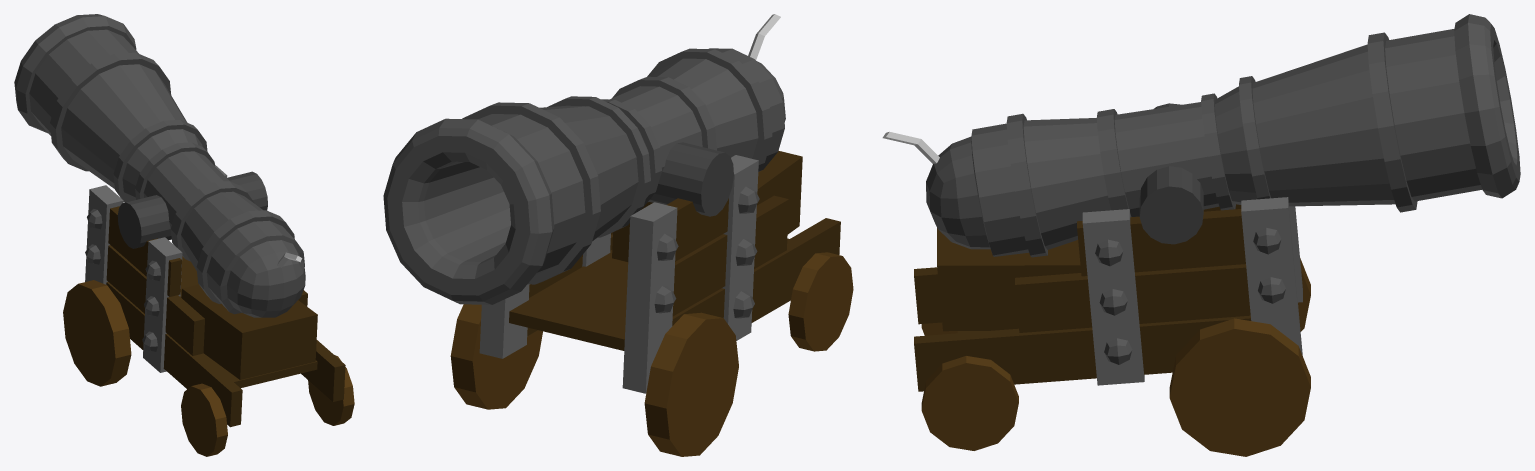
The model's file is Mesh_Canon.fbx.
3 renders of one model, left to right at view 1: azimuth 30°, elevation 25°; view 2: azimuth 150°, elevation 25°; view 3: azimuth 270°, elevation 25°, orthographic. The views are drawn at different scales.
Visible parts, largest first — view 1: Mesh_Canon; view 2: Mesh_Canon; view 3: Mesh_Canon.
Part boxes in pixels (<box>): Mesh_Canon: <box>14,14,354,456</box>; Mesh_Canon: <box>383,14,853,456</box>; Mesh_Canon: <box>882,14,1520,456</box>.
Bounding box in the file's own units: 20.09 × 34.99 × 52.81.
Materials: 1 (1 with a texture image).
